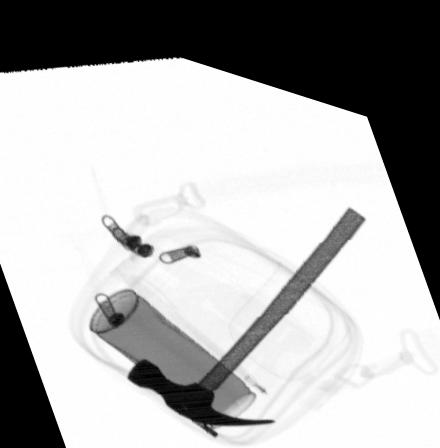Hammer: (125, 185, 365, 411)
